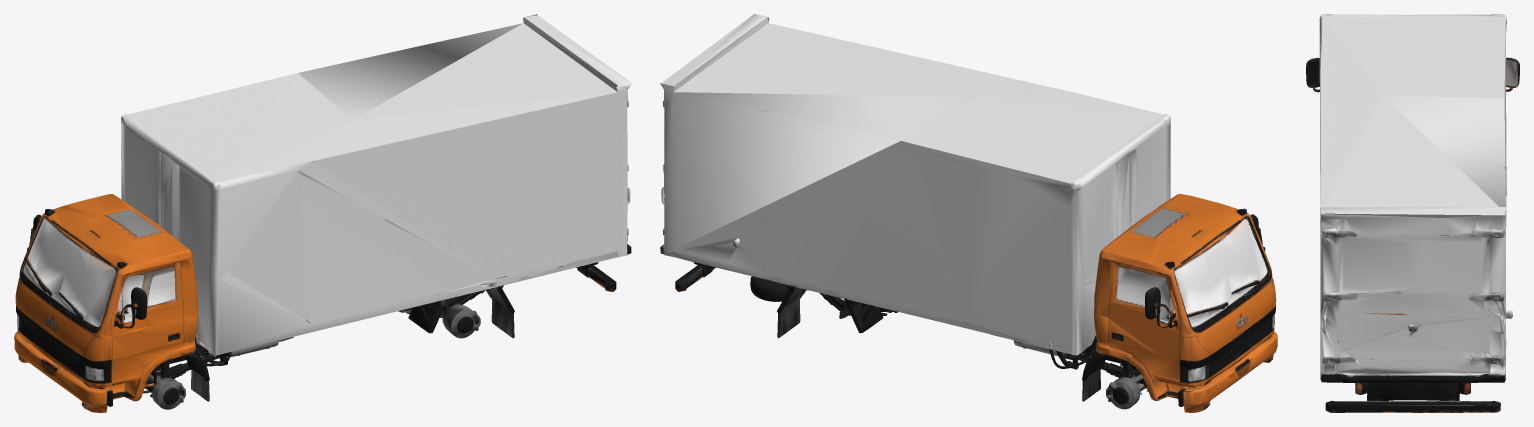
The model's file is 2_nowheel.glb.
The picture shows the model from 3 angles, left to right: view 1: azimuth 30°, elevation 25°; view 2: azimuth 150°, elevation 25°; view 3: azimuth 270°, elevation 25°; orthographic projection.
Visible parts, largest first — view 1: Mesh_0; view 2: Mesh_0; view 3: Mesh_0.
Boxes of the visible parts, bbox=[...] form: Mesh_0: bbox=[14, 14, 631, 412]; Mesh_0: bbox=[660, 14, 1277, 412]; Mesh_0: bbox=[1306, 14, 1519, 412].
Bounding box in the file's own units: 8.86 × 3.6 × 3.11.
Materials: 1 (1 with a texture image).
